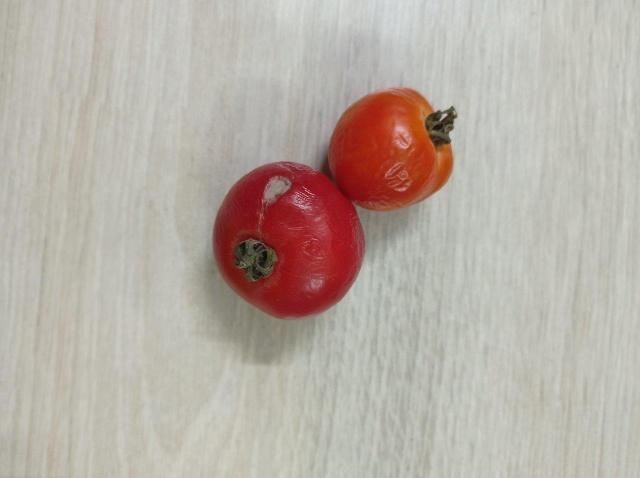defect: (209, 159, 369, 322), (318, 85, 460, 212)
